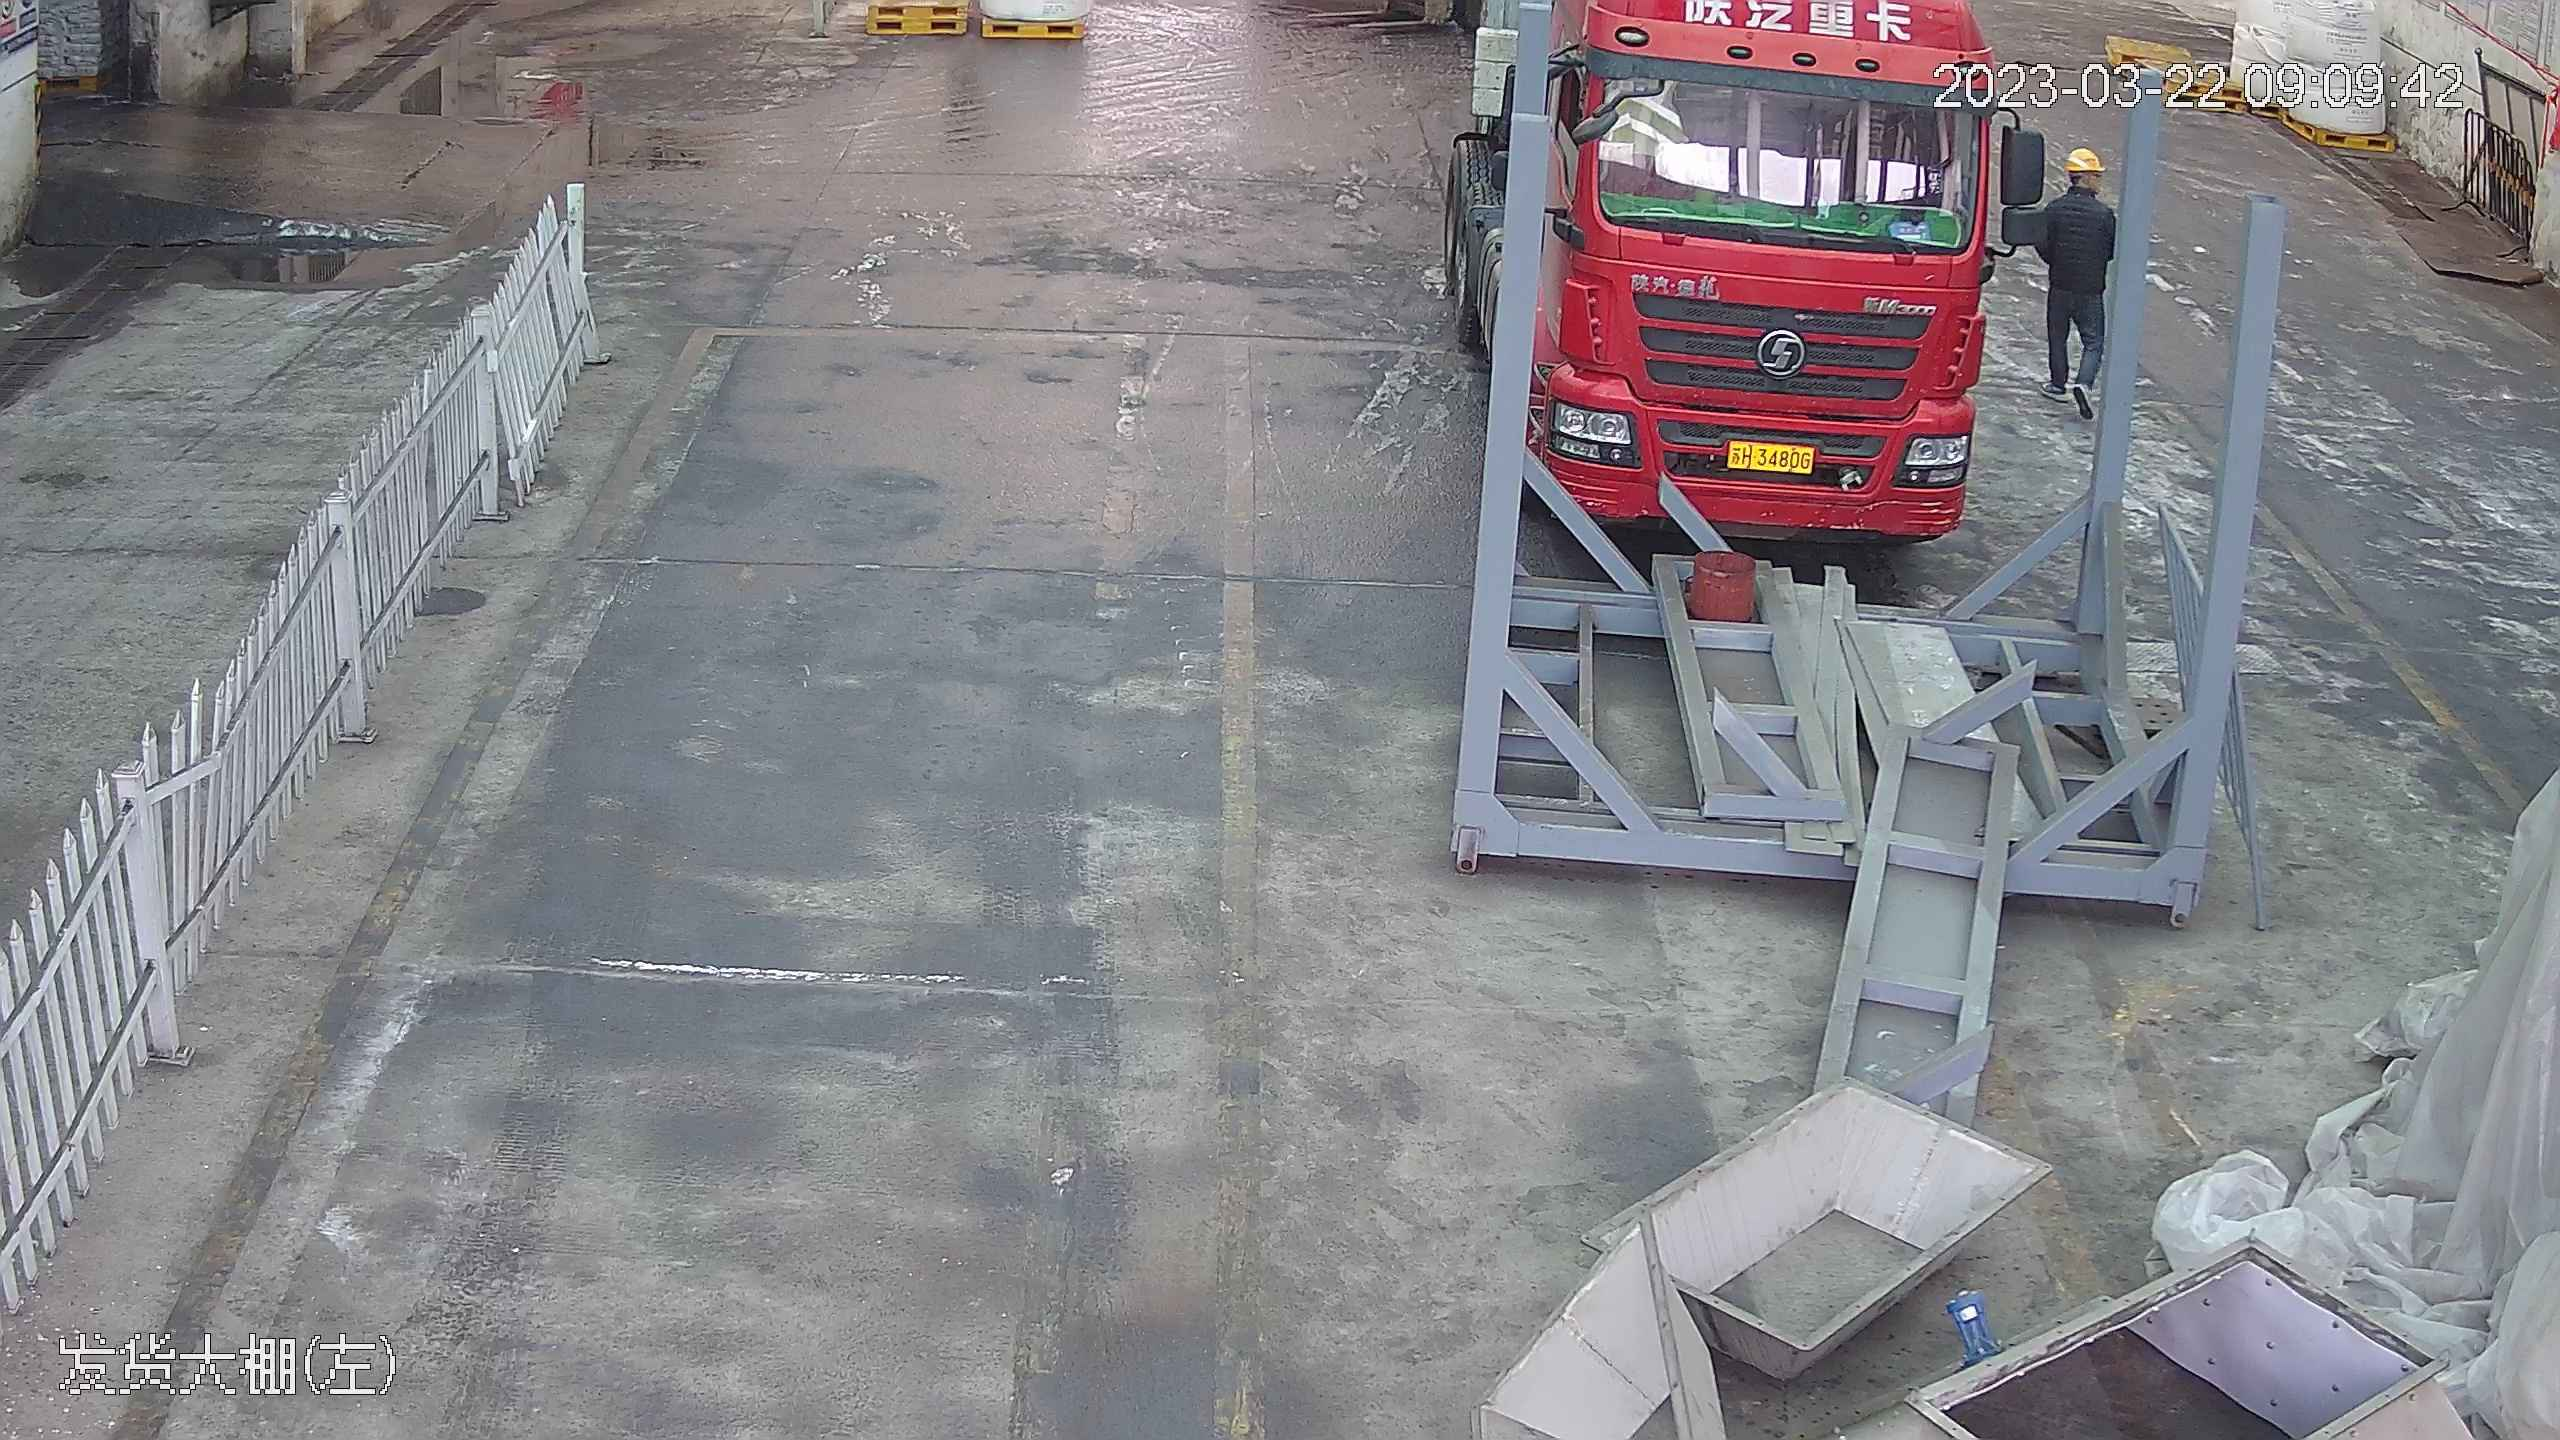head: (2039, 146, 2115, 224)
helmet: (2059, 145, 2104, 175)
people: (2026, 144, 2115, 410)
truck: (1512, 1, 2002, 544)
